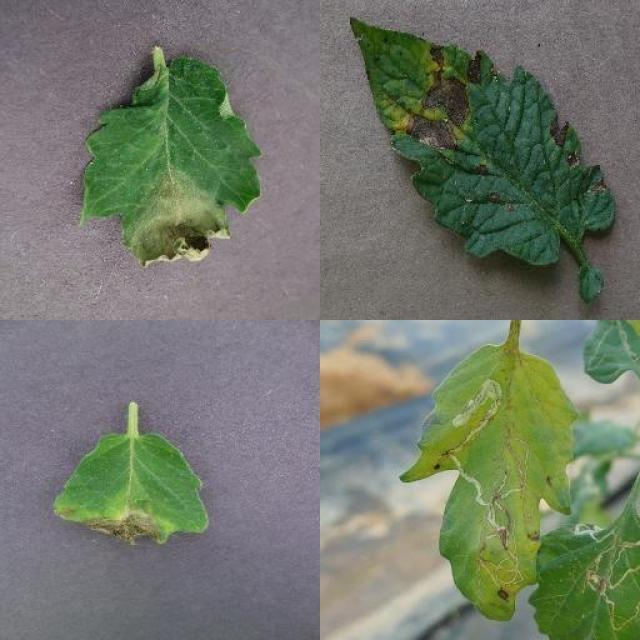Early Blight: (350, 16, 621, 270)
Late Blight: (81, 56, 262, 270), (55, 429, 214, 549)
